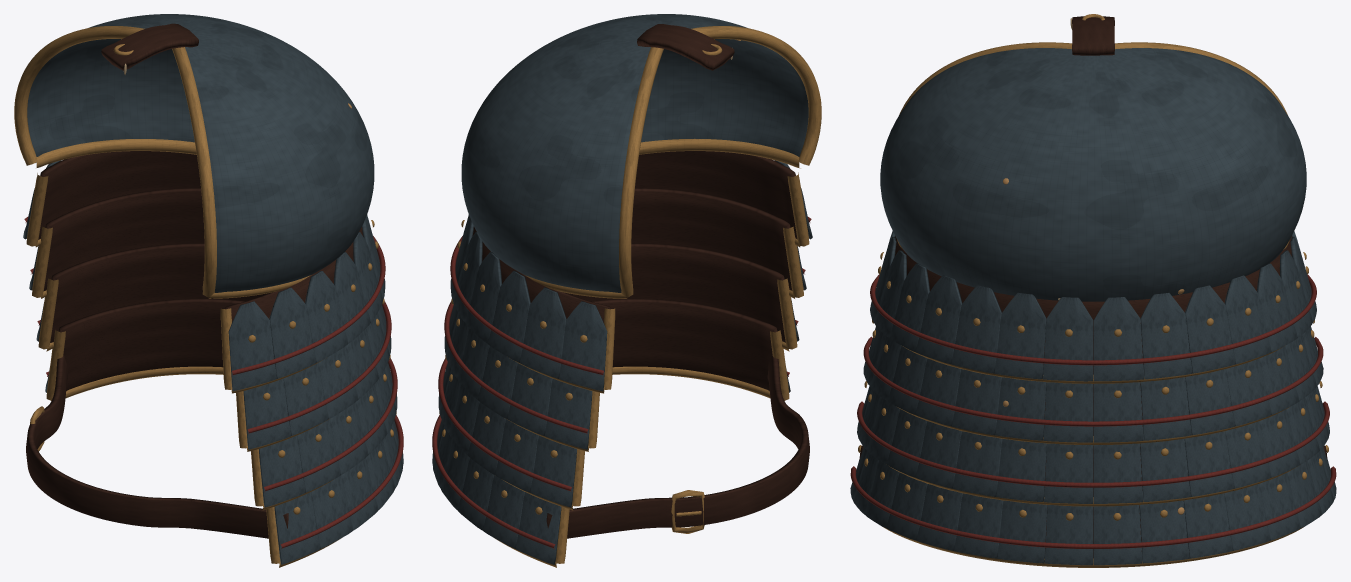
The picture shows the model from 3 angles, left to right: view 1: azimuth 30°, elevation 25°; view 2: azimuth 150°, elevation 25°; view 3: azimuth 270°, elevation 25°; orthographic projection. The views are drawn at different scales.
Visible parts, largest first — view 1: blackened lamellar plate, oiled strap leather, aged alloy edge, woven wool; view 2: blackened lamellar plate, oiled strap leather, aged alloy edge, woven wool; view 3: blackened lamellar plate, woven wool, aged alloy edge, oiled strap leather.
Part boxes in pixels (<box>): blackened lamellar plate: <box>23,14,403,564</box>; oiled strap leather: <box>26,23,363,538</box>; aged alloy edge: <box>14,26,396,567</box>; woven wool: <box>24,217,403,548</box>; blackened lamellar plate: <box>432,14,812,564</box>; oiled strap leather: <box>472,24,809,538</box>; aged alloy edge: <box>439,26,821,567</box>; woven wool: <box>432,217,811,548</box>; blackened lamellar plate: <box>850,48,1336,565</box>; woven wool: <box>850,274,1336,548</box>; aged alloy edge: <box>858,14,1328,567</box>; oiled strap leather: <box>859,16,1327,557</box>.
Size of the model in its own units: 0.2003 by 0.2679 by 0.2552.
6 materials, 4 textured.
